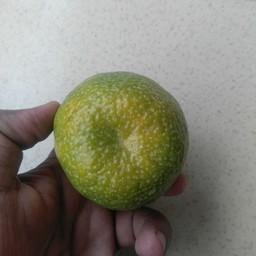Good_orange: (51, 68, 192, 212)
